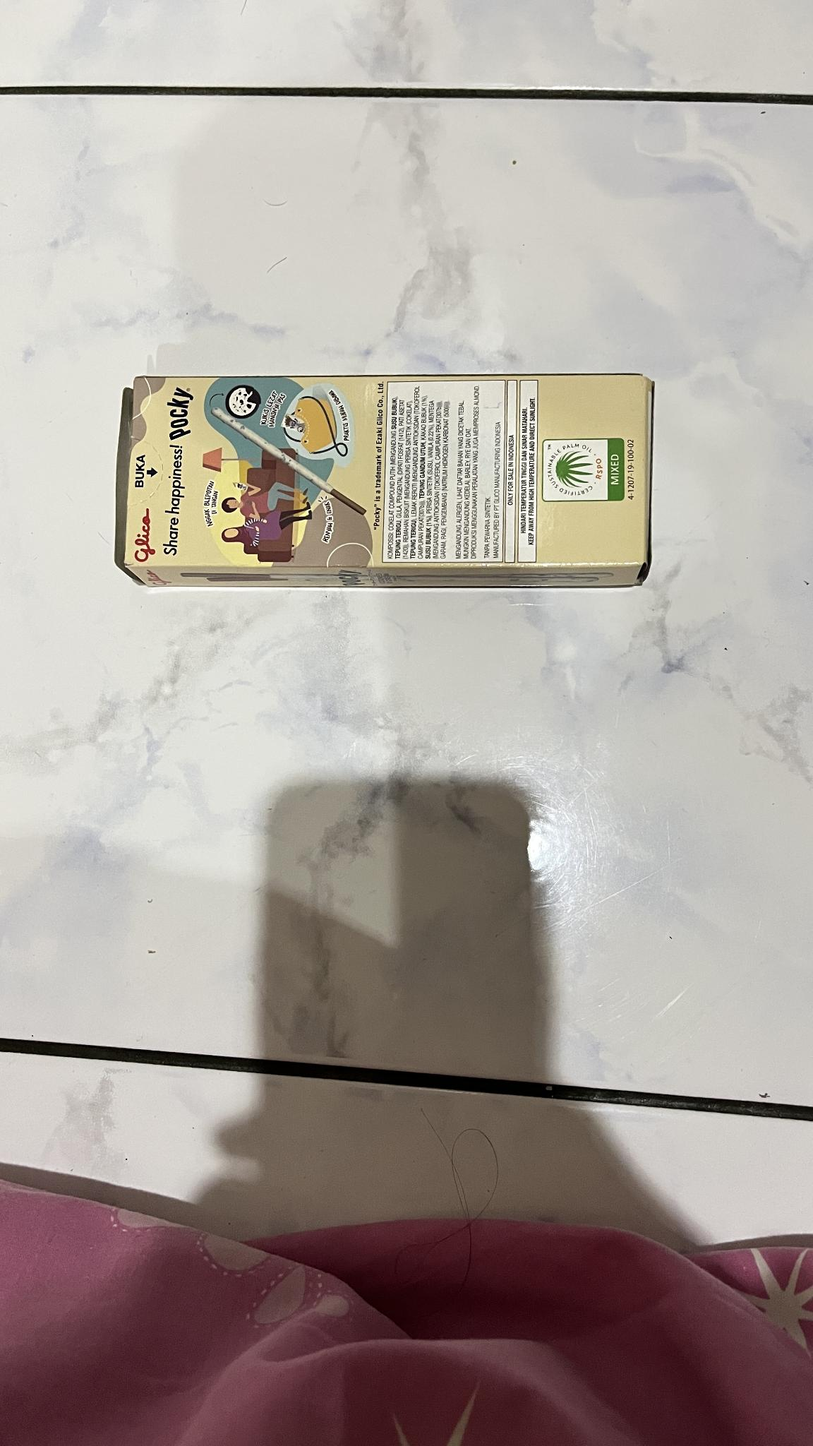Kertas: (122, 384, 649, 585)
